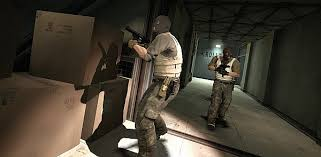gun: (122, 25, 151, 47), (215, 61, 228, 76)
